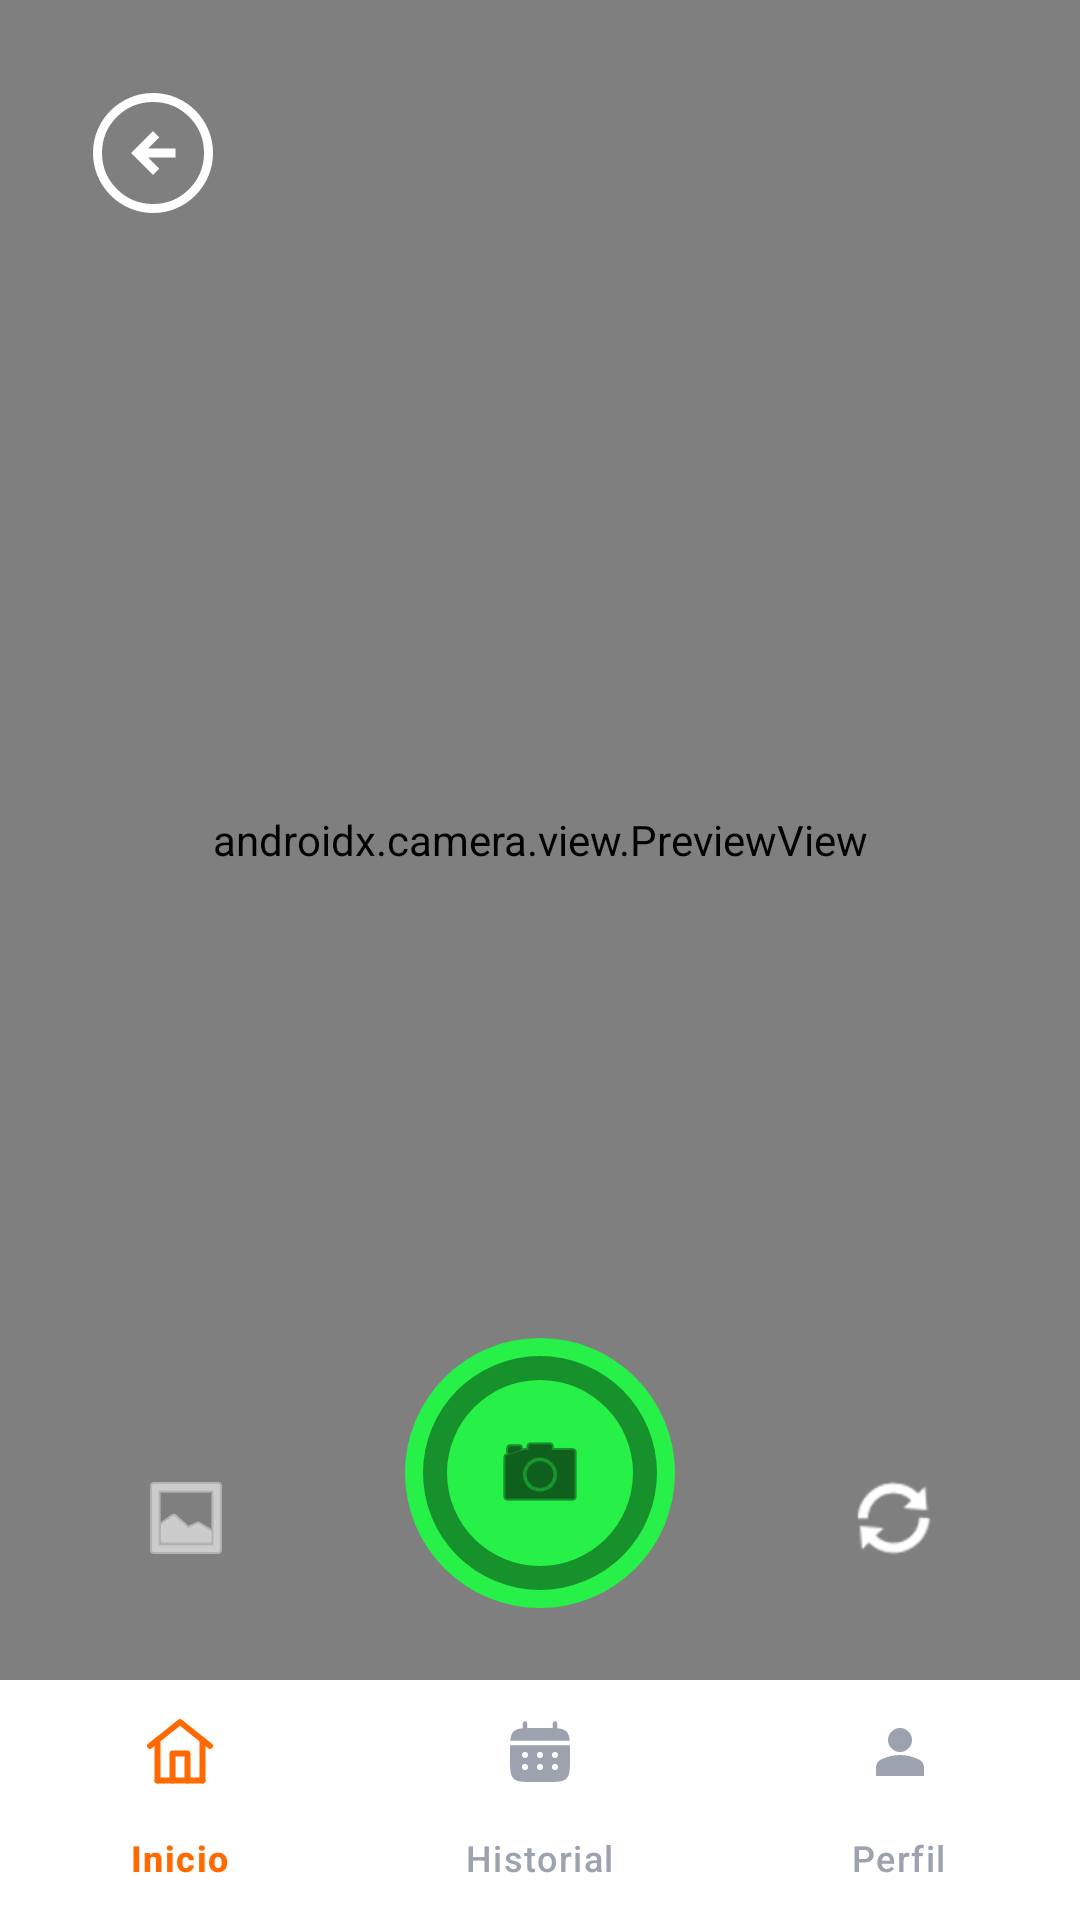

Screen size 1080w x 1920h. Icon name, then its center in pixels as (x,y):
back: (153,153)
gallery: (186,1518)
popup sync: (893,1518)
